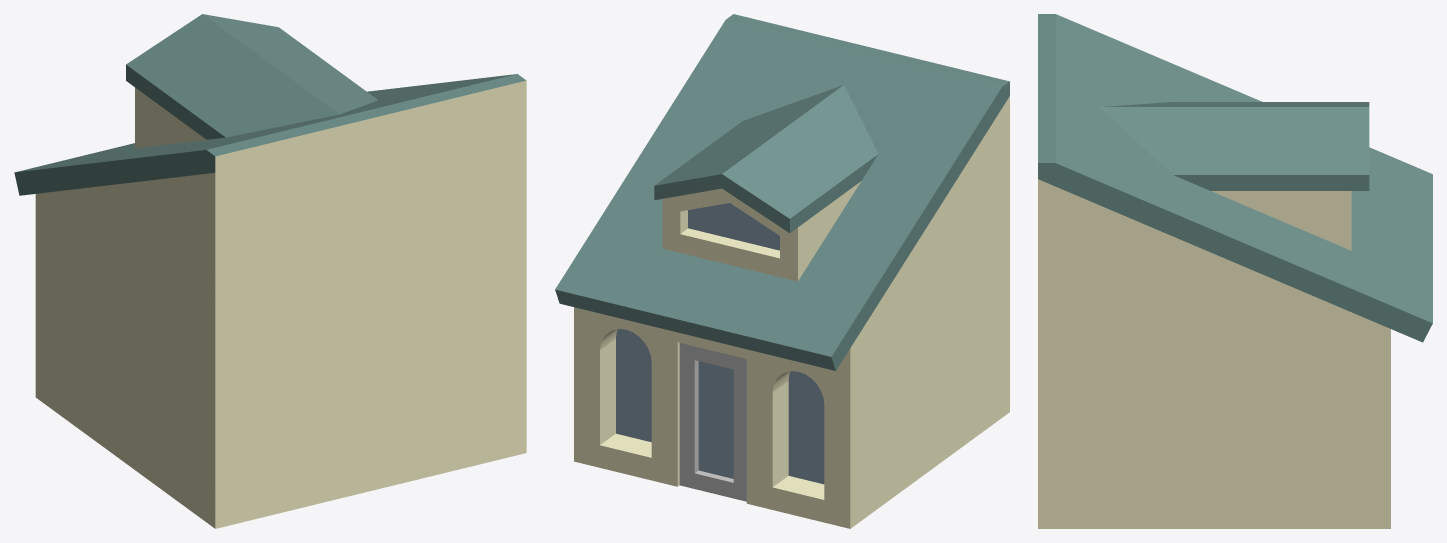
File: SM_Building_Small_02.fbx
The picture shows the model from 3 angles, left to right: view 1: azimuth 30°, elevation 25°; view 2: azimuth 150°, elevation 25°; view 3: azimuth 270°, elevation 25°; orthographic projection. The views are drawn at different scales.
Parts seen in each view (by area): view 1: SM_Building_Small_02; view 2: SM_Building_Small_02; view 3: SM_Building_Small_02.
Part boxes in pixels (<box>): SM_Building_Small_02: <box>14,14,526,528</box>; SM_Building_Small_02: <box>555,14,1009,528</box>; SM_Building_Small_02: <box>1038,14,1432,528</box>.
Bounding box in the file's own units: 400 × 458 × 448.
